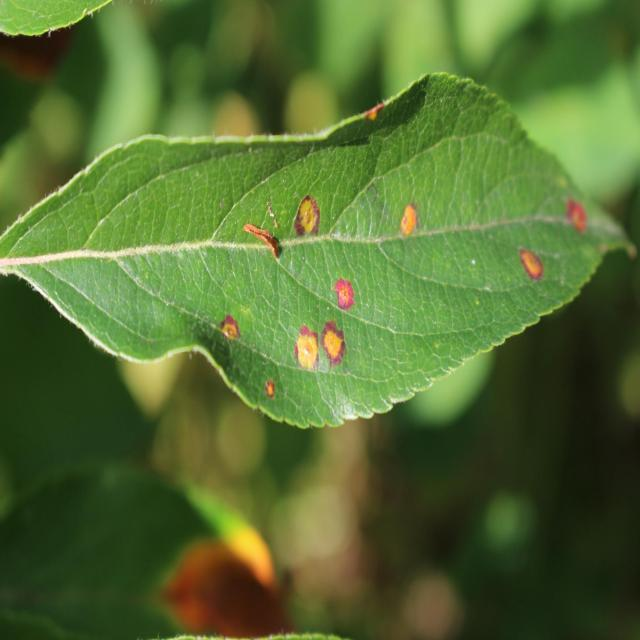Rust: (283, 179, 328, 252), (317, 301, 350, 389), (323, 272, 368, 324), (292, 308, 322, 381), (565, 178, 592, 250), (514, 243, 552, 286), (397, 189, 422, 252), (259, 370, 280, 416), (214, 308, 244, 340), (365, 96, 384, 135)
